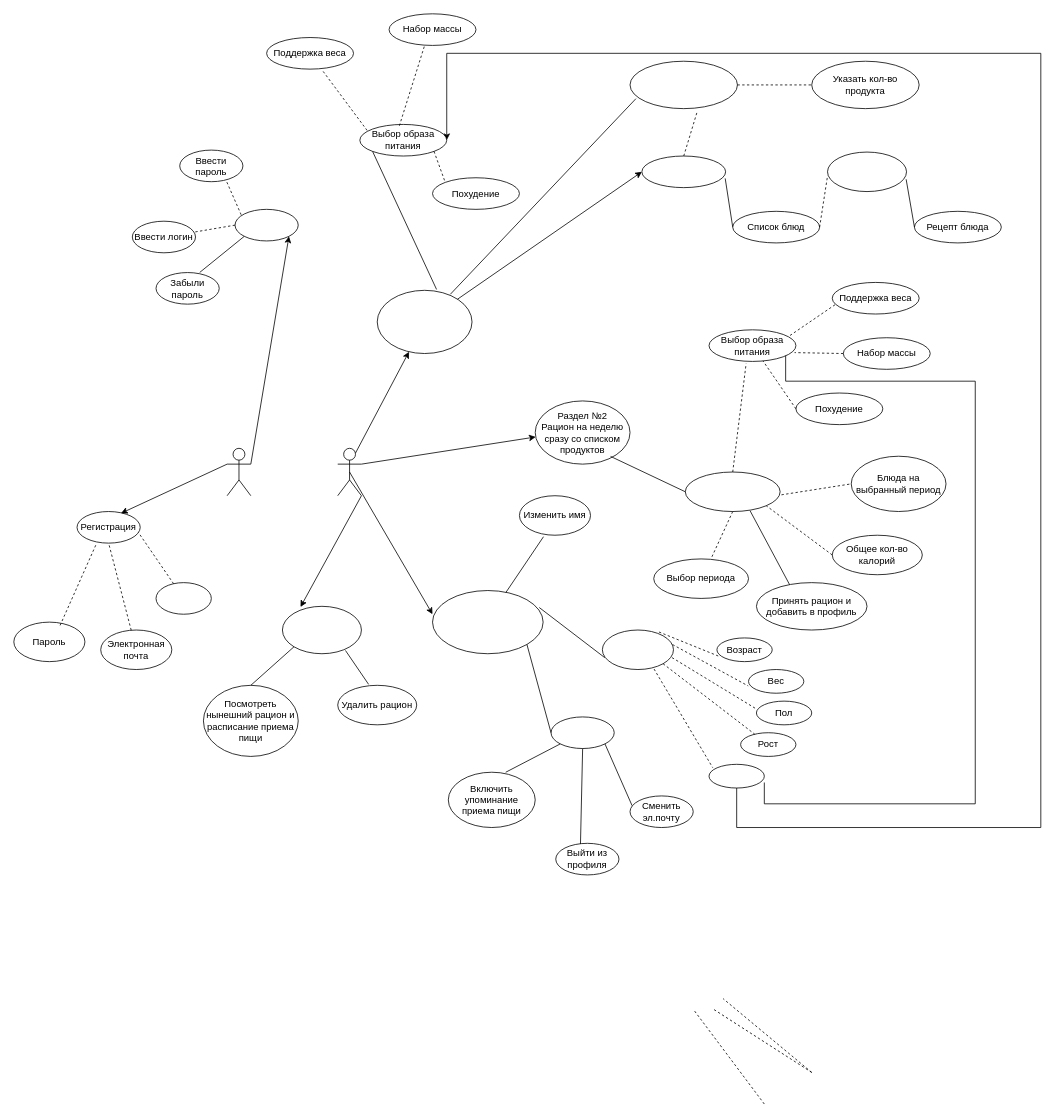
Image size: 1061x1119. Some labels were removed from this diagram. The centre of each missing label's shape, as x and y in pixels:
User Login: (349,472)
User Unlogin: (238,472)
Блюдо: (867,171)
Войти в профиль: (266,225)
Вписать продукт (добавить в список): (683,84)
Имя: (183,598)
Настройки: (582,732)
Образ жизни: (736,776)
Параметры тела: (637,649)
Поиск блюд: (683,171)
Раздвел №3 Профиль и информация о пользователе: (487,622)
Раздвел №4 Рацион: (321,630)
Раздел №1 Приготовить еду из того что есть: (424,322)
Составить рацион: (732,491)
